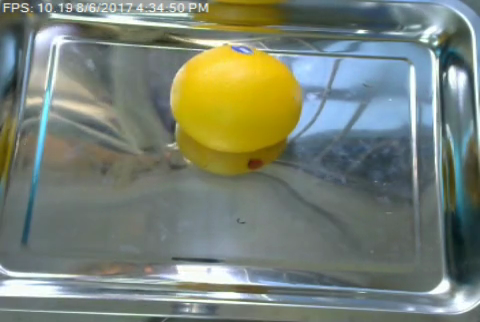Orange: (168, 45, 304, 152)
